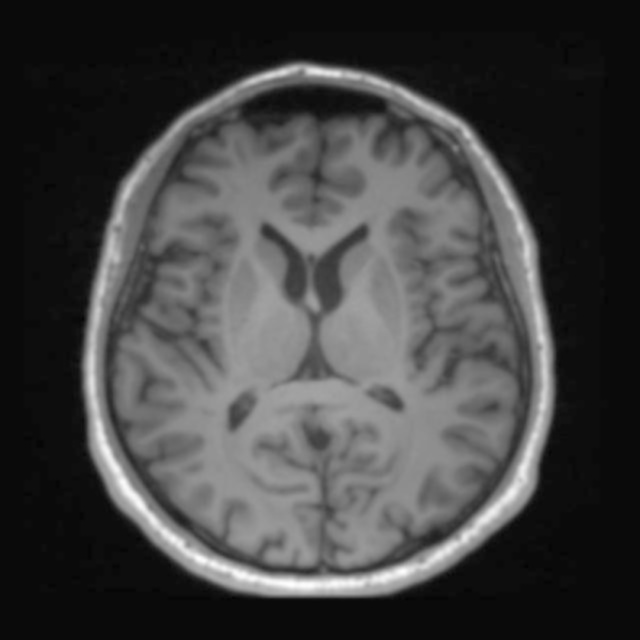glioma tumor: (175, 129, 452, 536)
